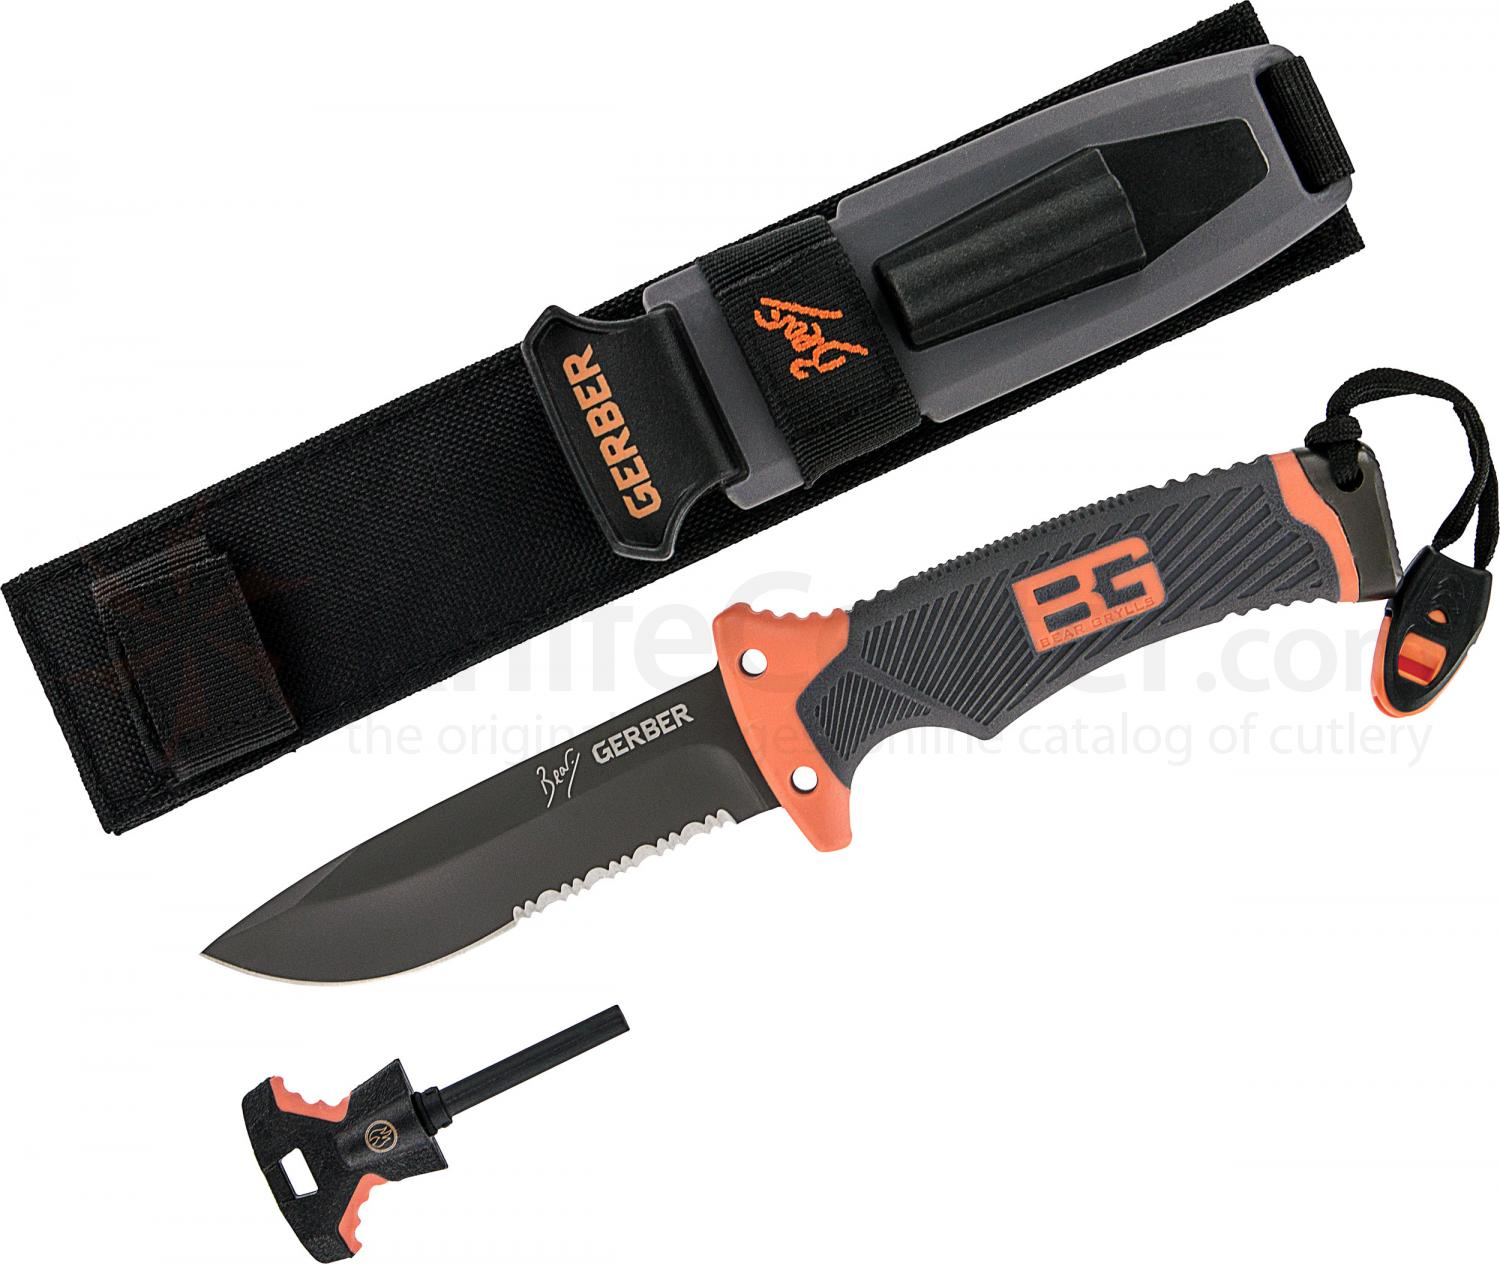knife: (181, 673, 790, 1011)
